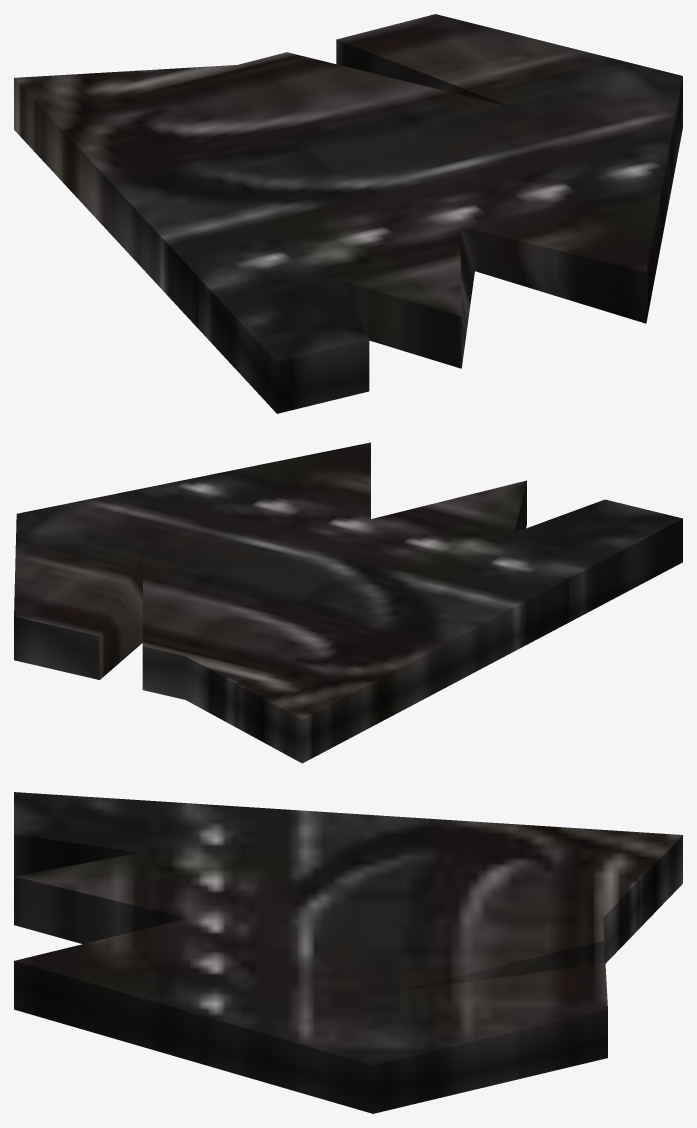
Rendered from gatepart1.glb.
3 renders of one model, top to bottom at view 1: azimuth 30°, elevation 25°; view 2: azimuth 150°, elevation 25°; view 3: azimuth 270°, elevation 25°, orthographic. The views are drawn at different scales.
Parts seen in each view (by area): view 1: model_gatepart1; view 2: model_gatepart1; view 3: model_gatepart1.
Boxes of the visible parts, x1=… form: model_gatepart1: x1=14, y1=14, x2=682, y2=413; model_gatepart1: x1=14, y1=442, x2=682, y2=763; model_gatepart1: x1=14, y1=792, x2=682, y2=1113.
Size of the model in its own units: 1.32 by 0.1091 by 1.36.
Materials: 1 (1 with a texture image).
